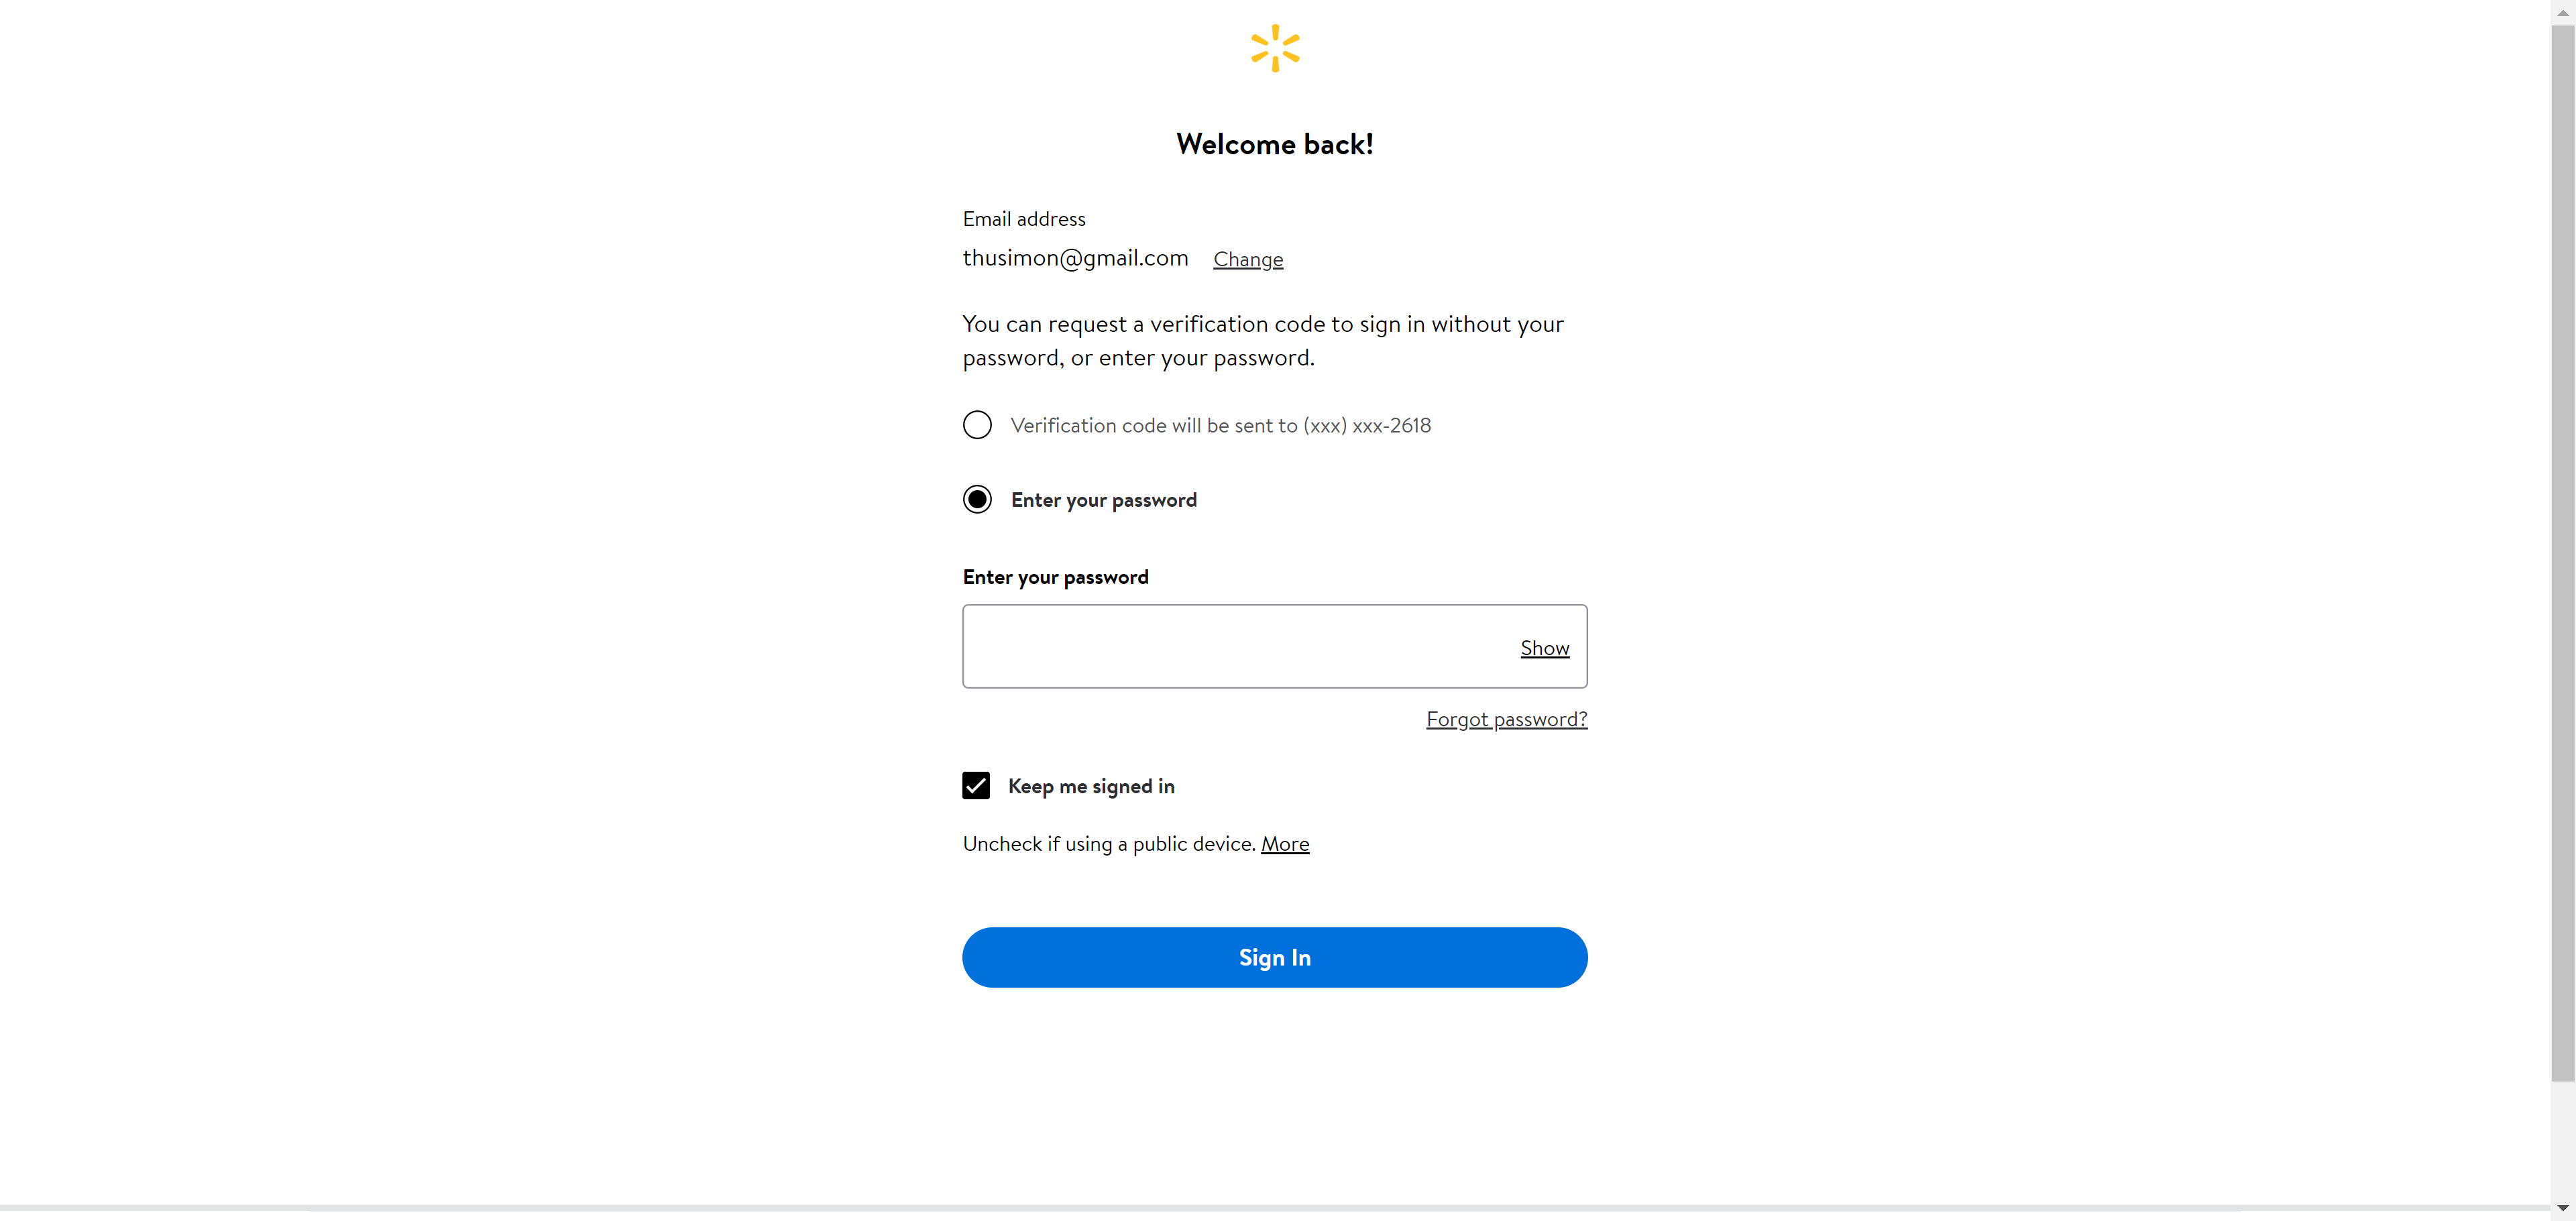login_button: (963, 928, 1589, 988)
login_form: (953, 560, 1597, 998)
